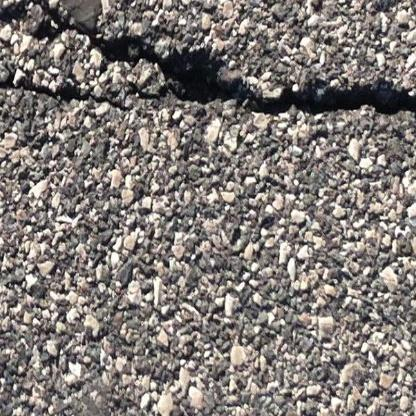Cracks: (0, 0, 416, 127), (0, 62, 128, 114)
